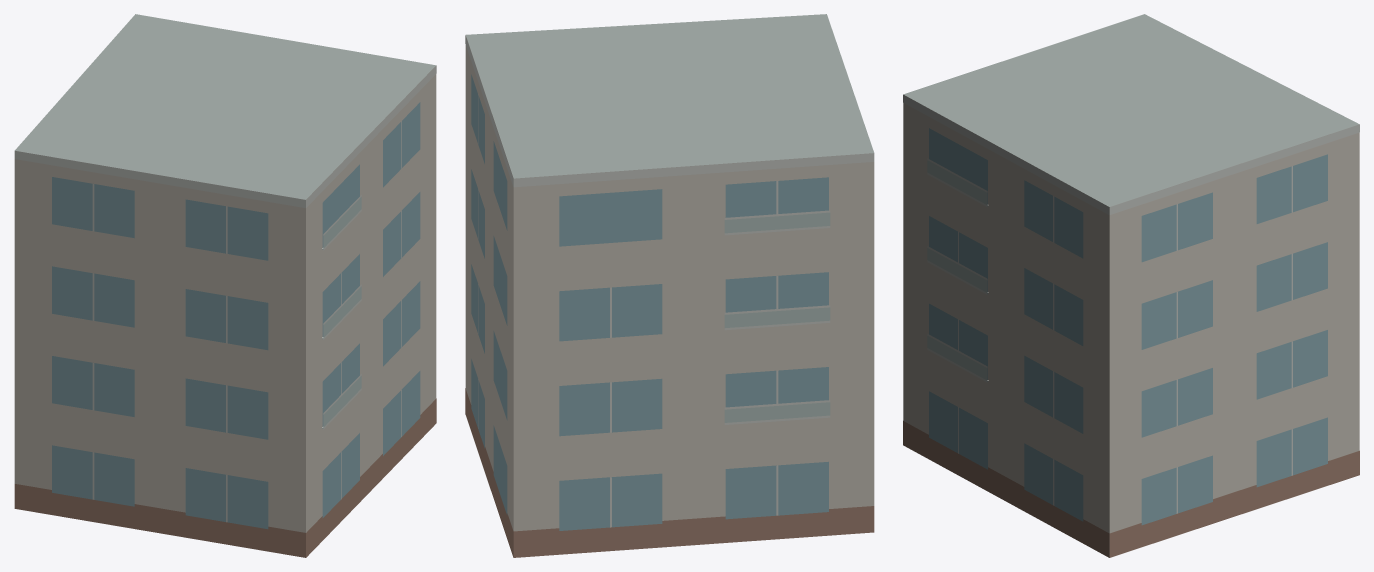
File: survey-upis-33030947.glb
3 views of the same model, side by side, from view 1: azimuth 30°, elevation 25°; view 2: azimuth 150°, elevation 25°; view 3: azimuth 270°, elevation 25° (orthographic). The views are drawn at different scales.
Visible parts, largest first — view 1: survey-upis-33030947.tmp; view 2: survey-upis-33030947.tmp; view 3: survey-upis-33030947.tmp.
Boxes of the visible parts, box(x1,y1,x2,y2) form: survey-upis-33030947.tmp: box(14, 14, 436, 557); survey-upis-33030947.tmp: box(465, 14, 874, 557); survey-upis-33030947.tmp: box(903, 14, 1359, 557).
Bounding box in the file's own units: 12.4 × 10.5 × 12.4.
